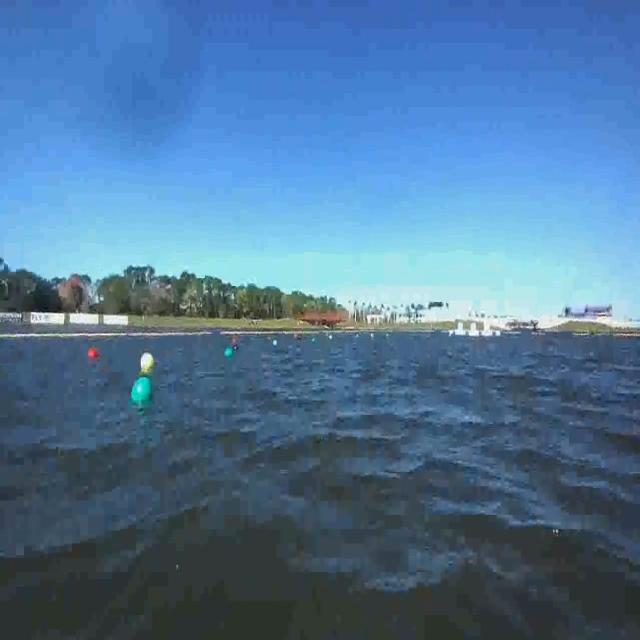green-buoy: (133, 374, 155, 400)
red-buoy: (90, 348, 100, 360)
yellow-buoy: (140, 352, 154, 370)
